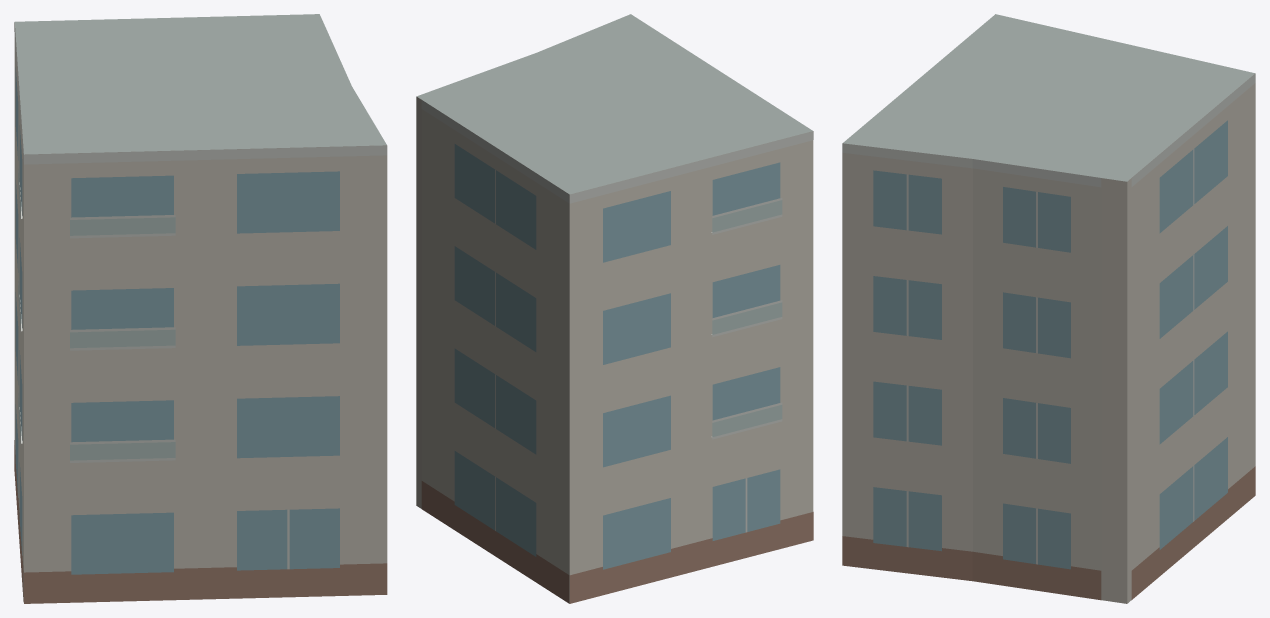
The model's file is survey-upis-32724536.glb.
3 renders of one model, left to right at view 1: azimuth 30°, elevation 25°; view 2: azimuth 150°, elevation 25°; view 3: azimuth 270°, elevation 25°, orthographic. The views are drawn at different scales.
Parts seen in each view (by area): view 1: survey-upis-32724536.tmp; view 2: survey-upis-32724536.tmp; view 3: survey-upis-32724536.tmp.
Boxes of the visible parts, x1=… form: survey-upis-32724536.tmp: x1=14, y1=14, x2=387, y2=603; survey-upis-32724536.tmp: x1=416, y1=14, x2=813, y2=603; survey-upis-32724536.tmp: x1=842, y1=14, x2=1255, y2=603.
Bounding box in the file's own units: 9.29 × 10.9 × 9.67.
